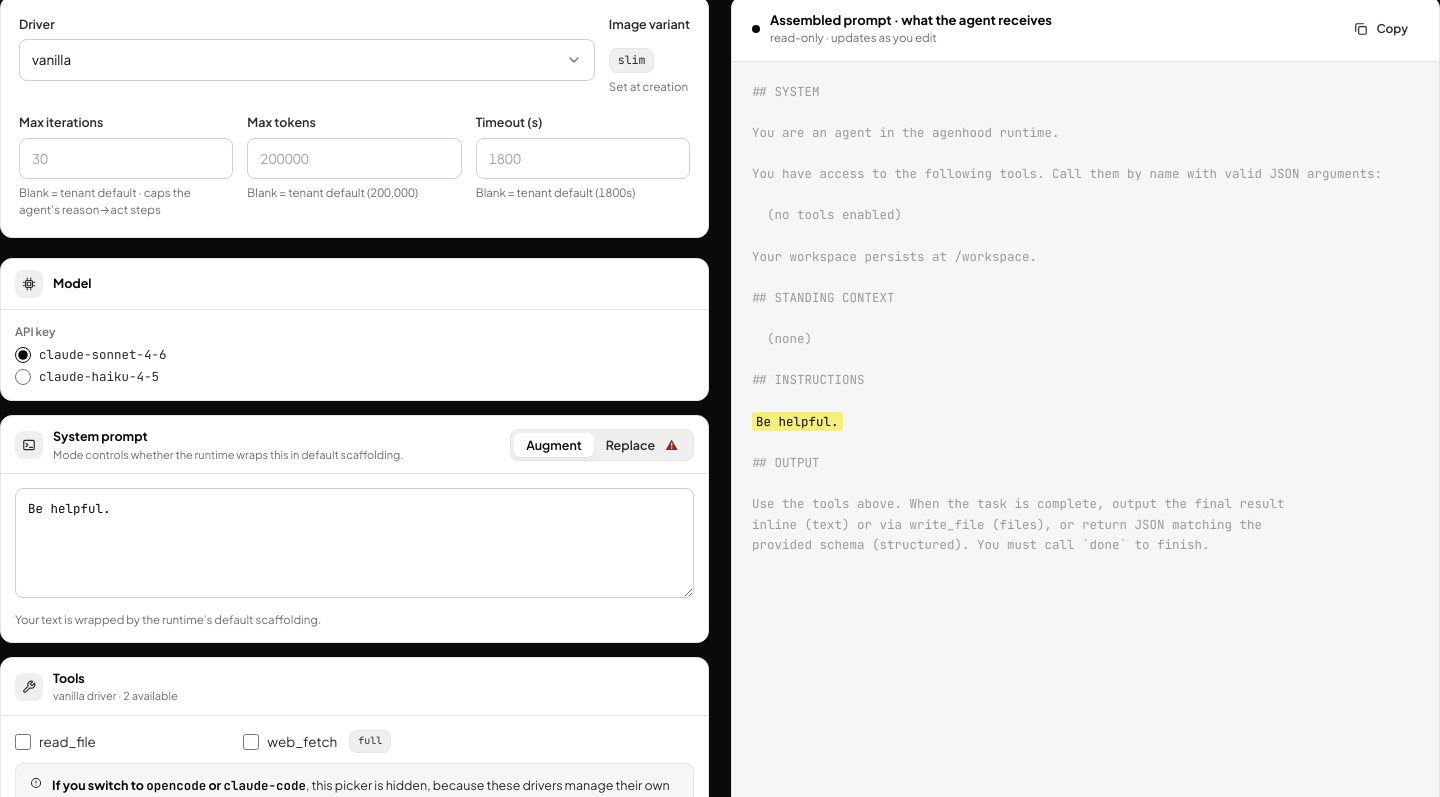
it: Configuration editor (driver-aware) › warns when a chosen tool needs chromium on a slim container
This screenshot has width=1440, height=797.
Click the checkbox labelled "web_fetch" at x=251, y=742, box [243, 734, 259, 750]
(page scrolled)
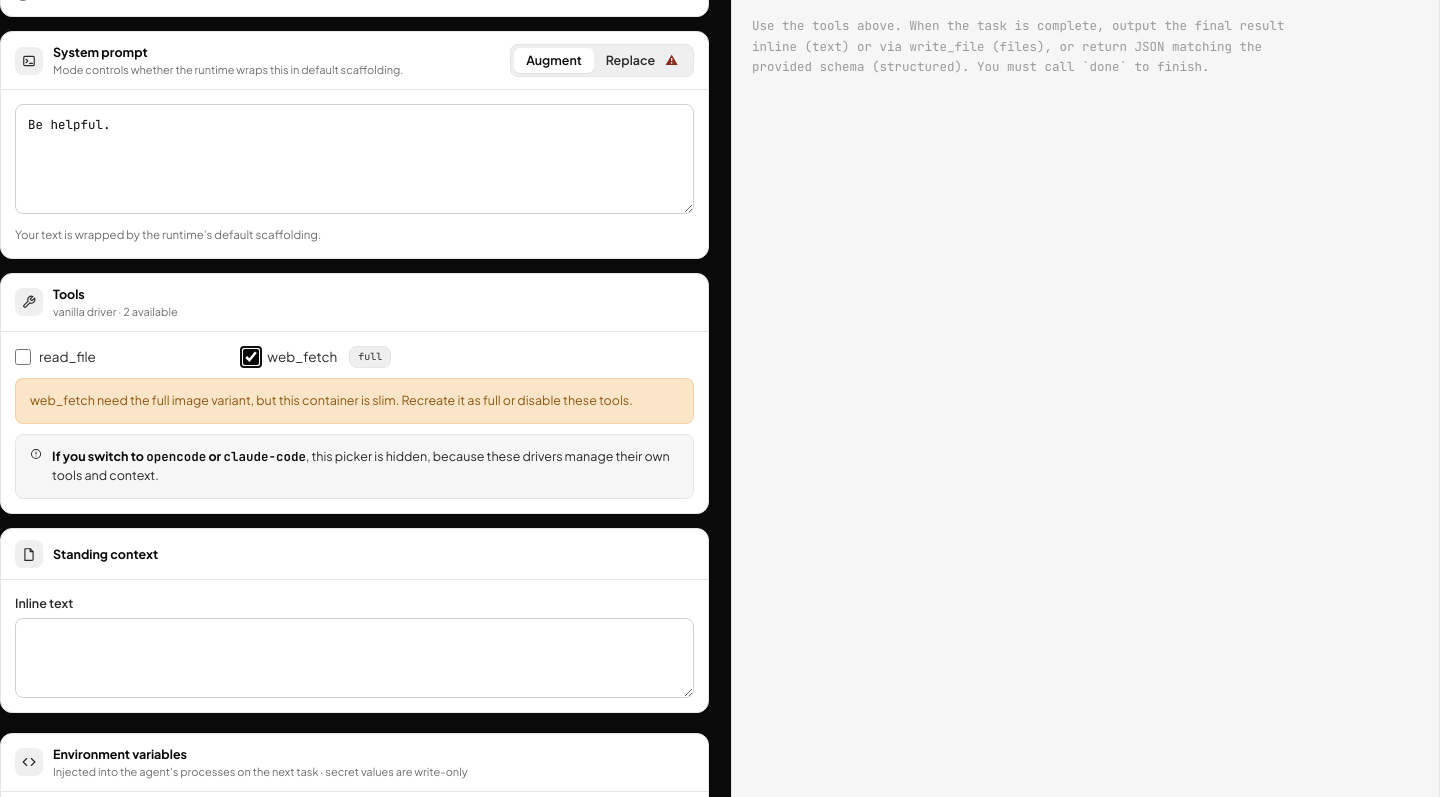
Expected: the text "full image variant" shows "slim", [95, 392, 633, 408]
